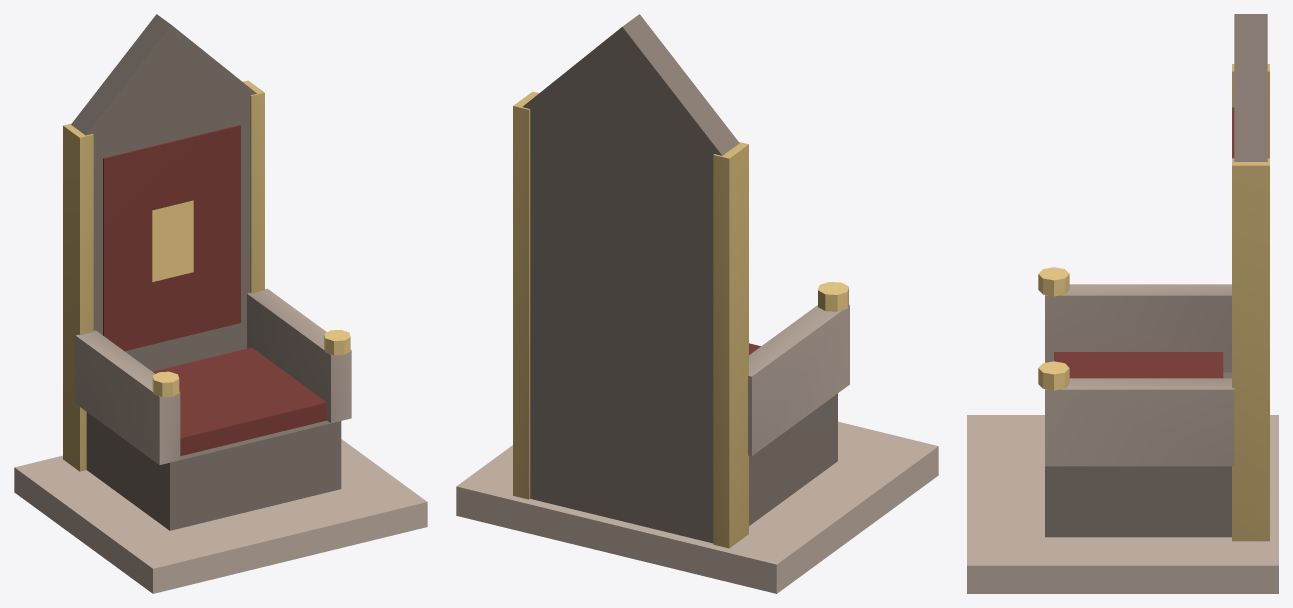
The model's file is kit_throne.glb.
3 renders of one model, left to right at view 1: azimuth 30°, elevation 25°; view 2: azimuth 150°, elevation 25°; view 3: azimuth 270°, elevation 25°, orthographic. The views are drawn at different scales.
Visible parts, largest first — view 1: kit_throne; view 2: kit_throne; view 3: kit_throne.
Boxes of the visible parts, box(x1,y1,x2,y2) form: kit_throne: box(14, 14, 427, 593); kit_throne: box(456, 14, 938, 593); kit_throne: box(967, 14, 1278, 593).
Bounding box in the file's own units: 1.6 × 2.5 × 1.4.
